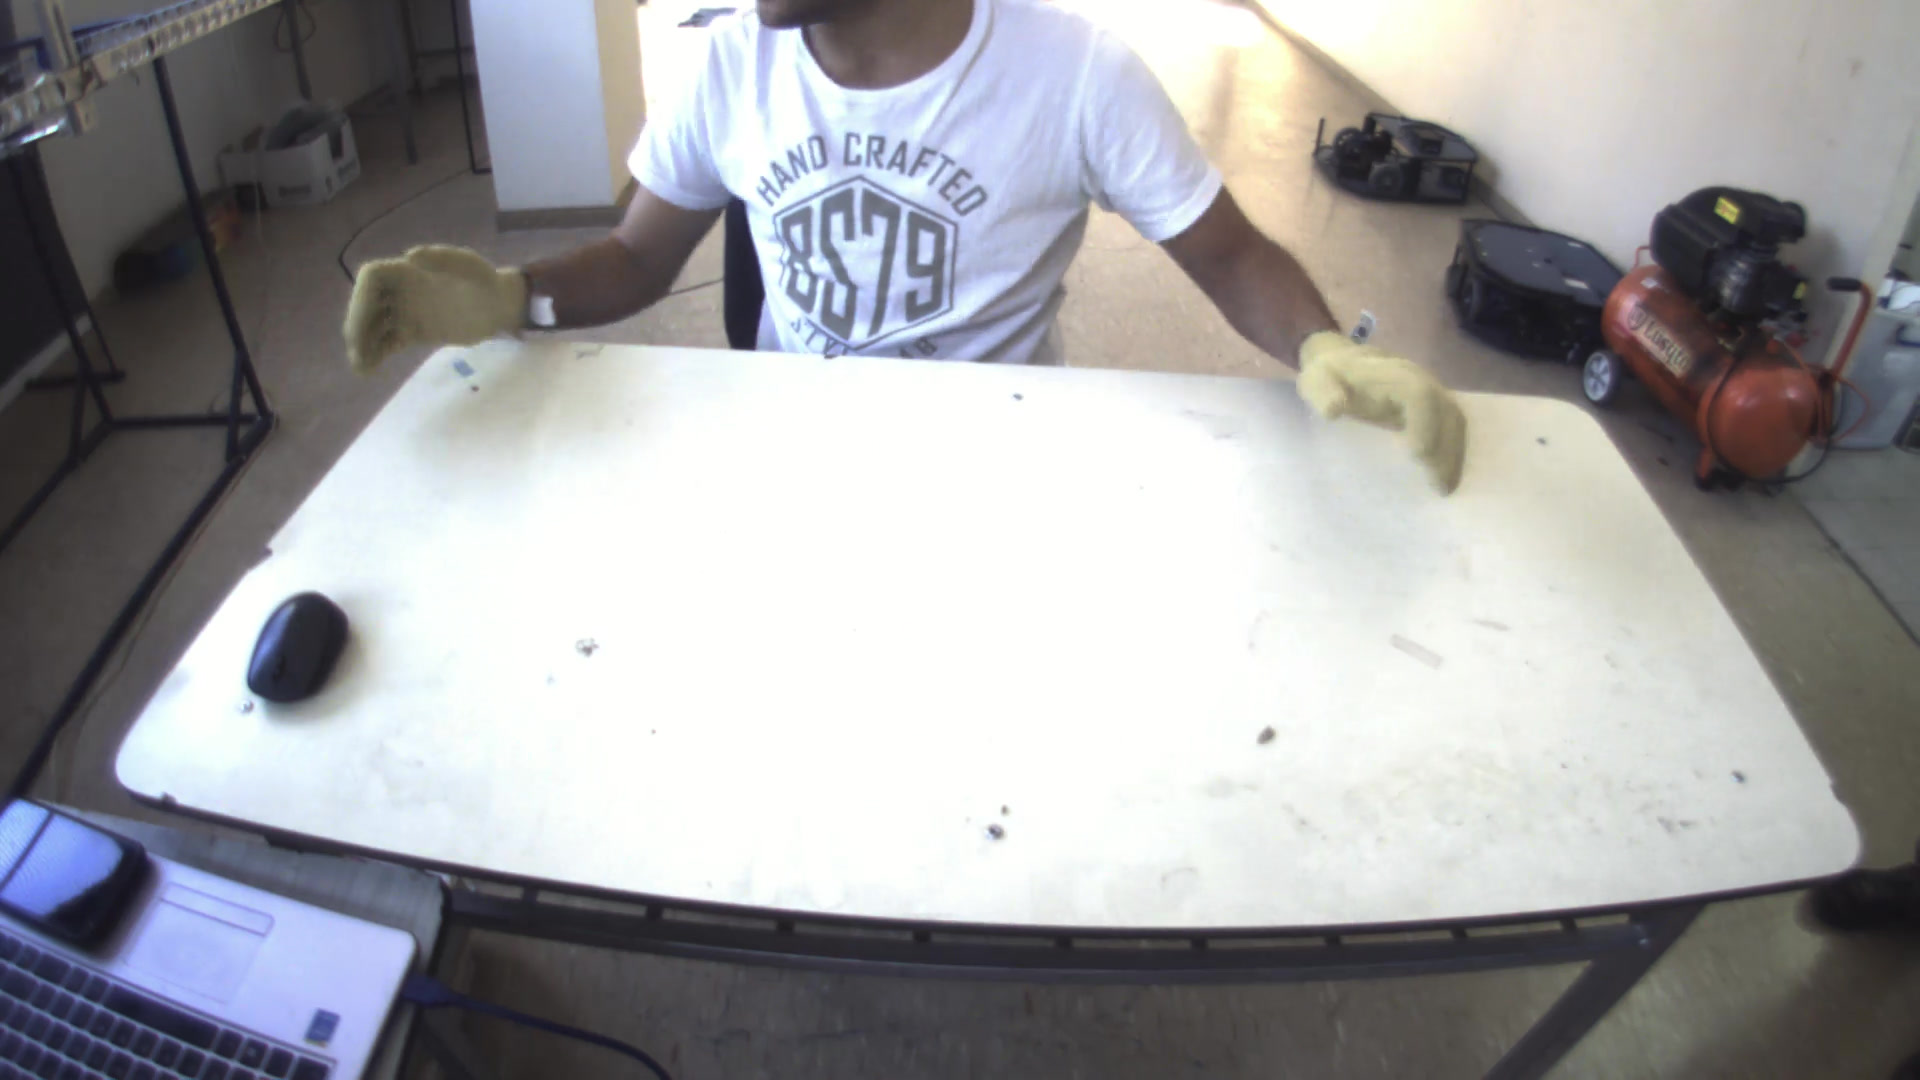hand: (1294, 311, 1480, 483), (326, 231, 524, 373)
